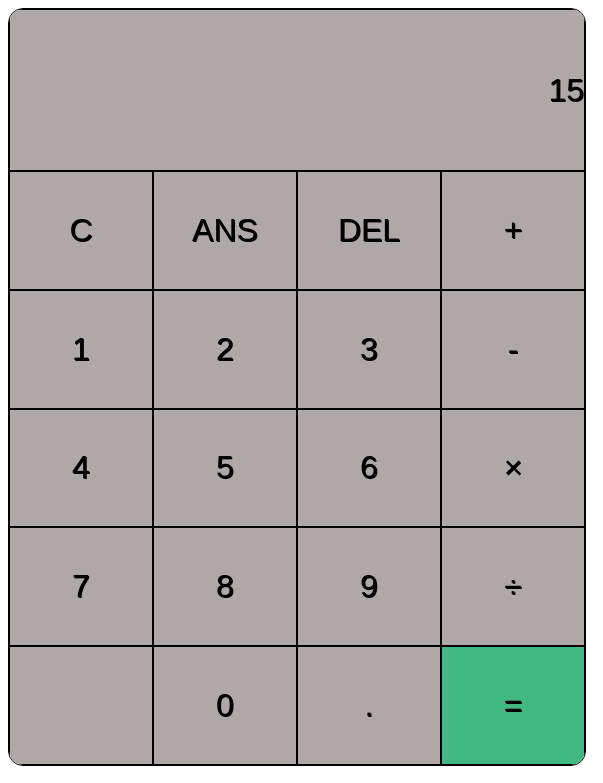
Test: CalculatorComp.vue › Testing delete button
This screenshot has width=603, height=783.
What coordinates should you click on to do the following:
click the button with id "DEL"
I would click on:
 (369, 230)
Its box is 297,171 -> 441,290.
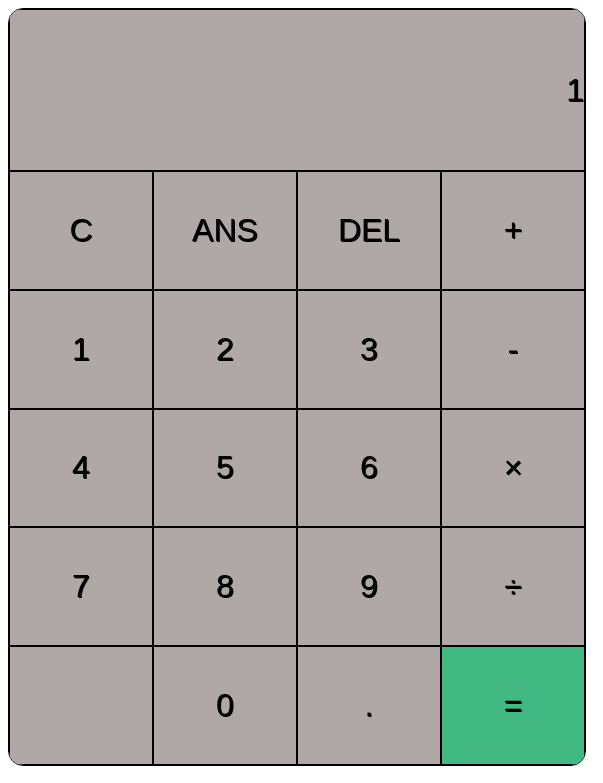
Expected: the text with class "inputholder" reads "1", 566,72 -> 584,108
